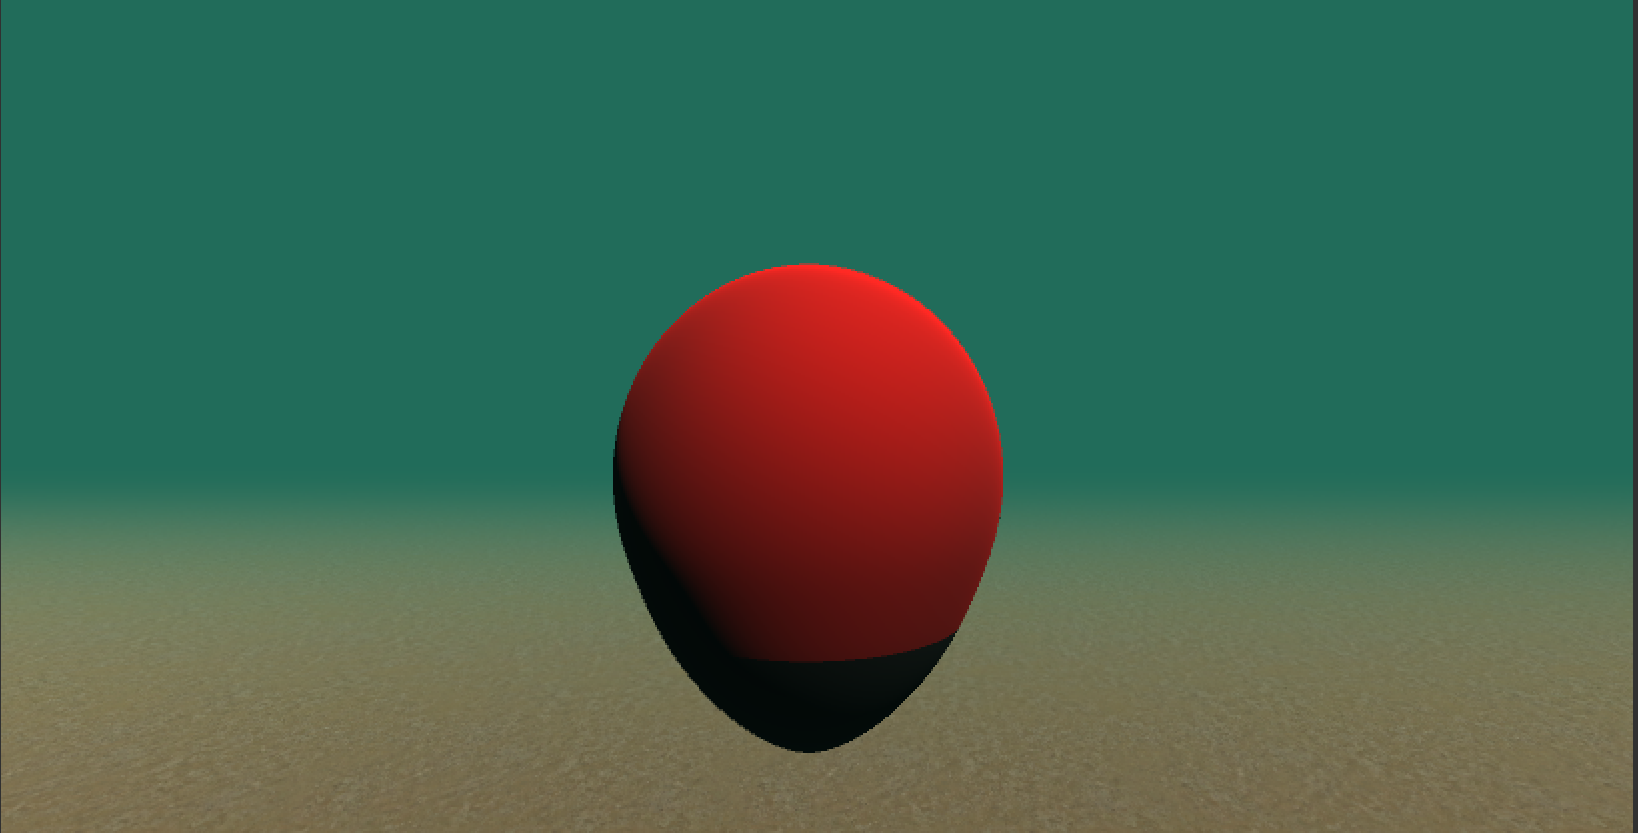red buoy: (603, 260, 1009, 760)
